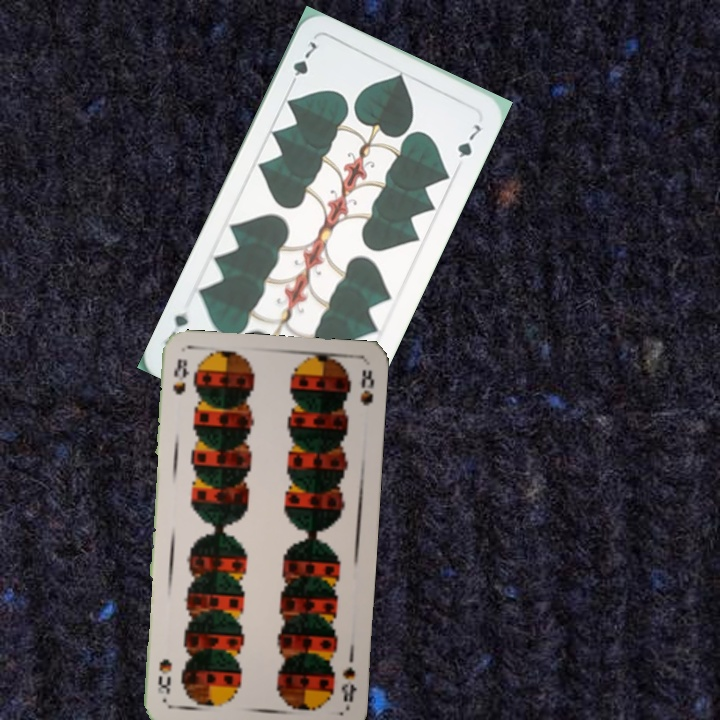G7: (285, 37, 320, 91)
S8: (337, 663, 359, 713), (168, 355, 191, 397)
